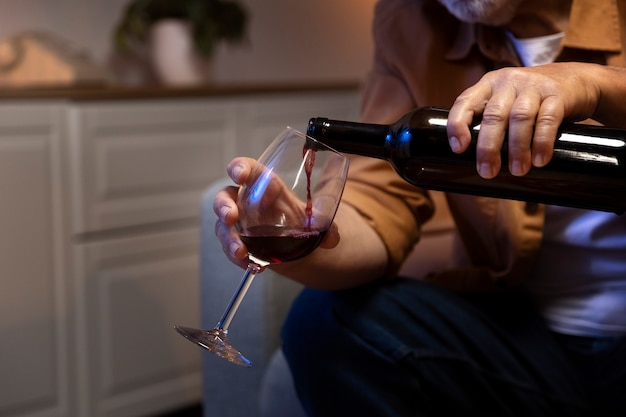alcohol: (173, 124, 352, 370), (305, 105, 626, 213)
